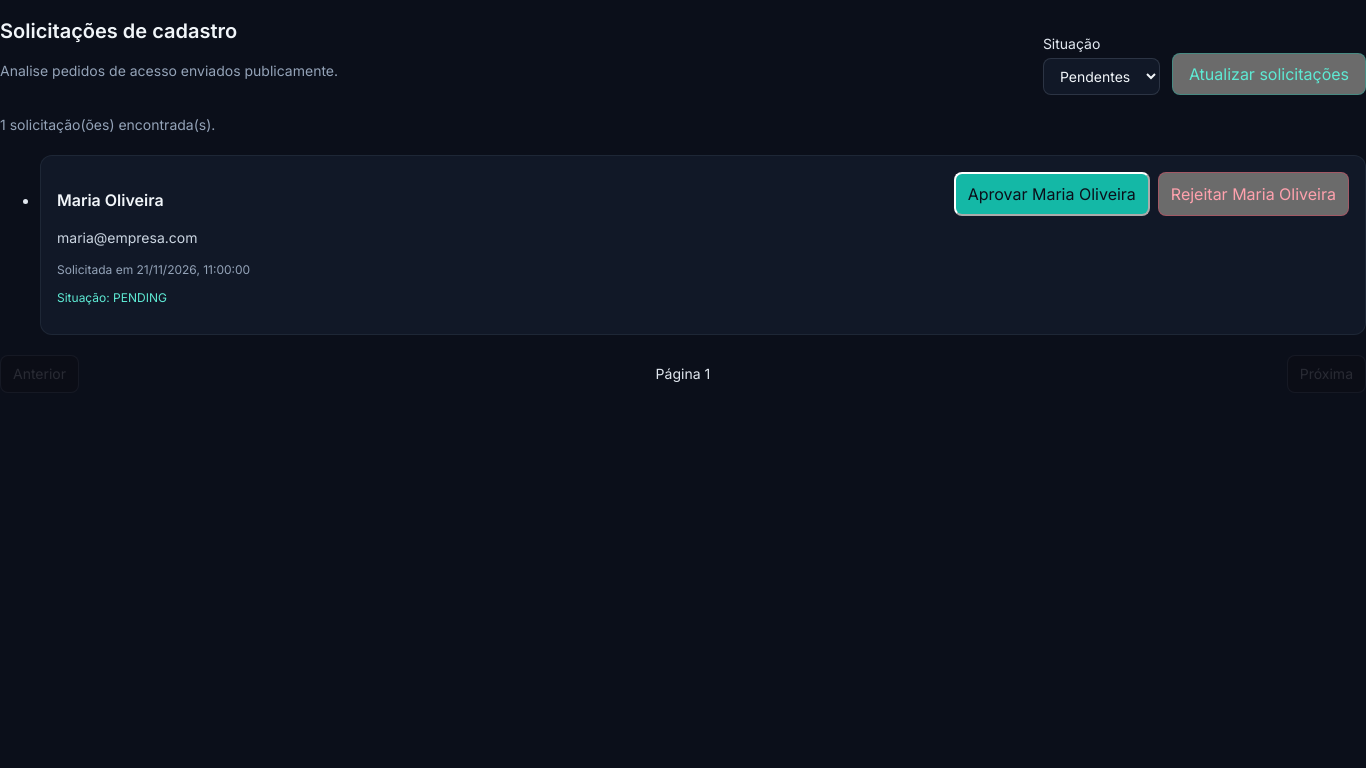
Test: FE-08: não permite aprovar com senha fora da política
Click the button "Aprovar Maria Oliveira" at x=1052, y=194, box 954,172 -> 1150,216
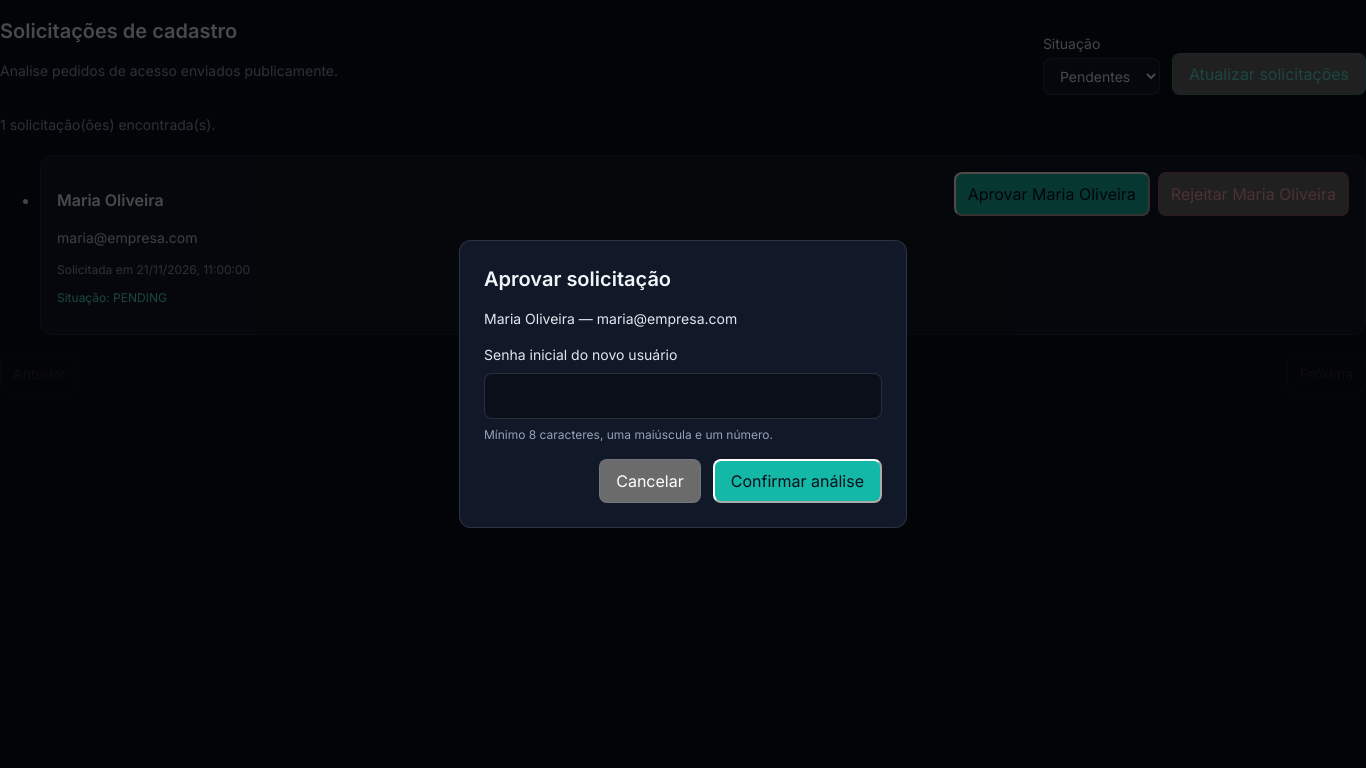
Type "senhasemnumero" into the password field labelled "Senha inicial do novo usuário" at x=683, y=396, box 484,373 -> 882,419
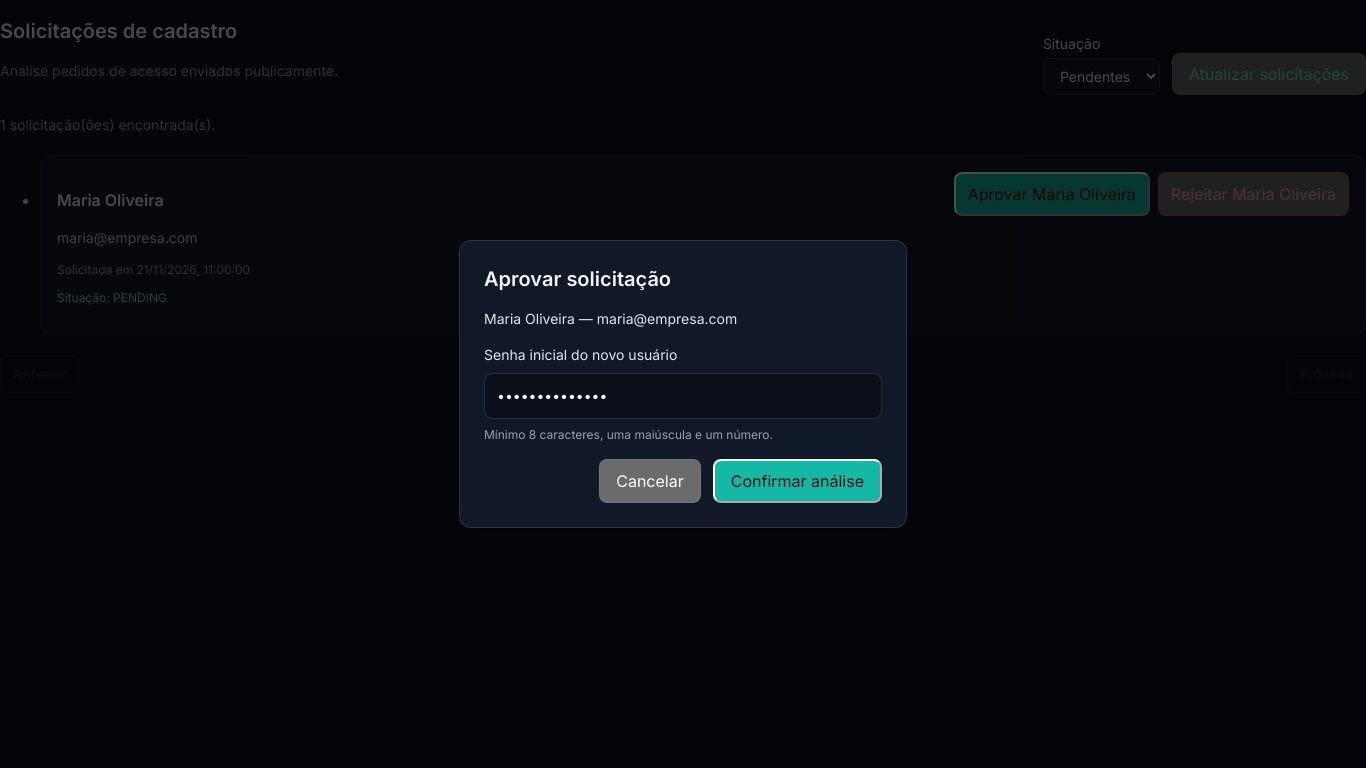
Click the button "Confirmar análise" at x=797, y=481, box 713,459 -> 882,503
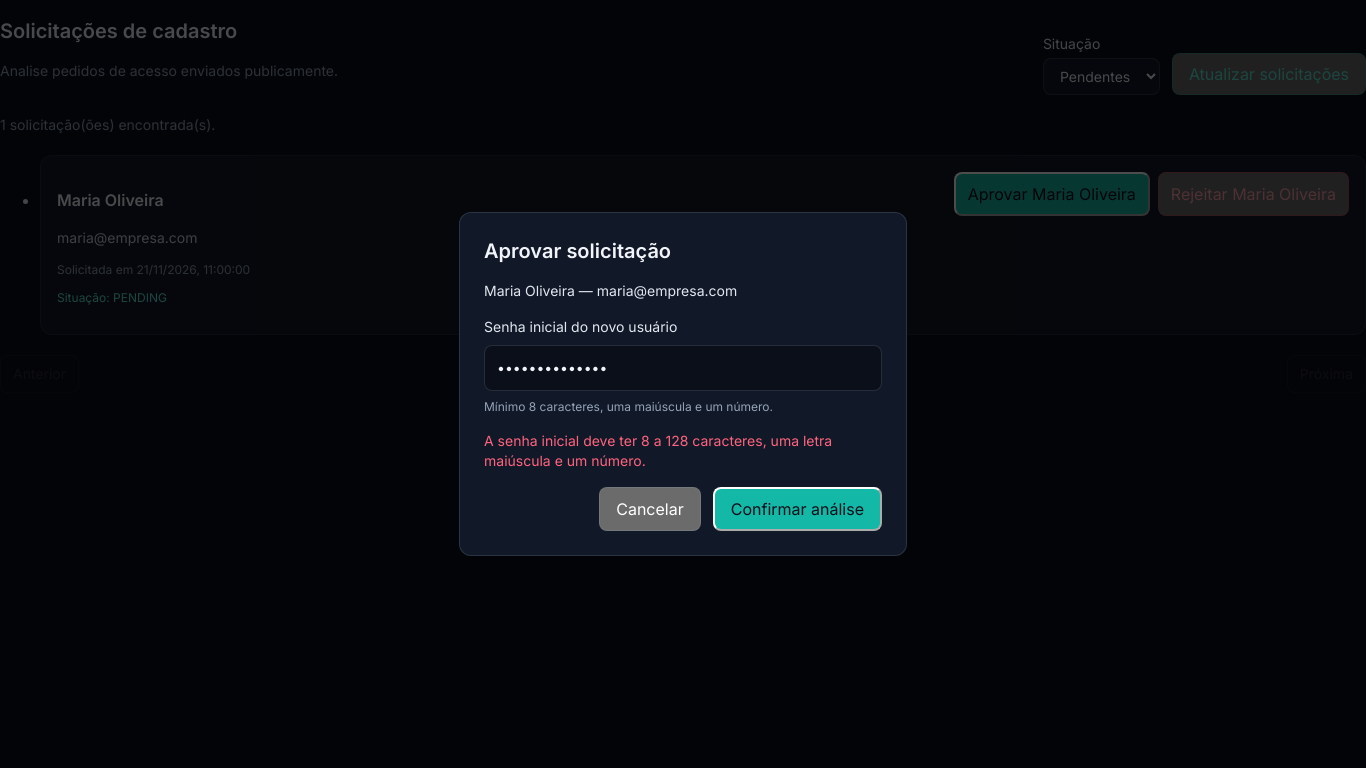
Expected: the message shows "senha inicial deve ter", 484,432 -> 832,469
